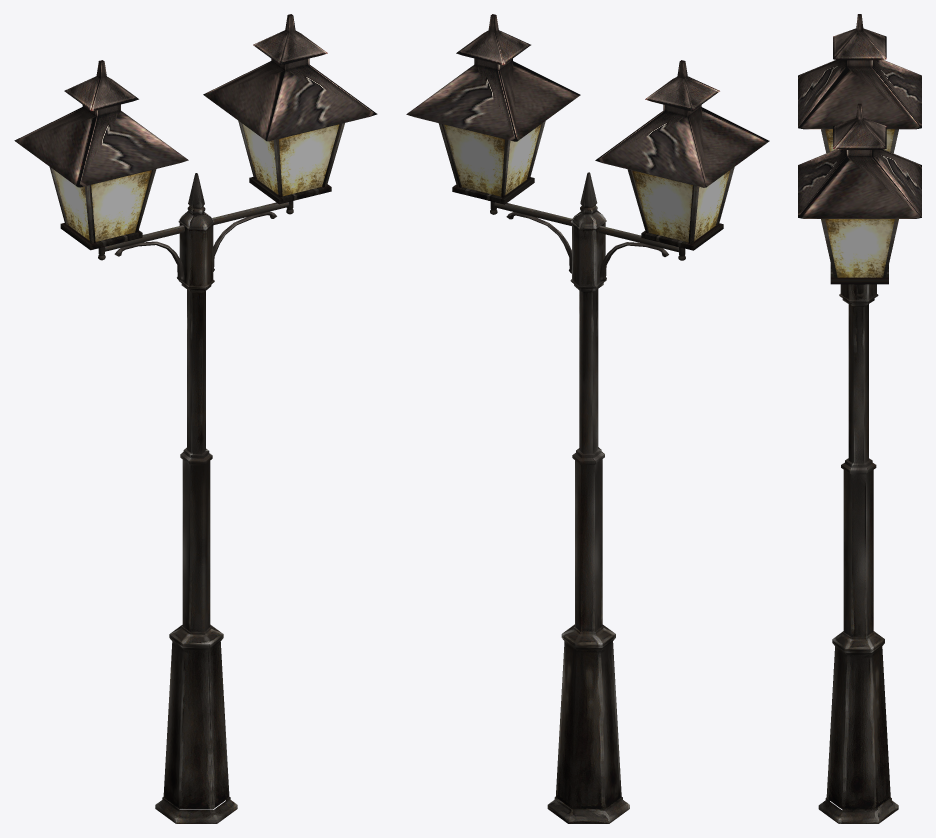
File: lamp.fbx
3 views of the same model, side by side, from view 1: azimuth 30°, elevation 25°; view 2: azimuth 150°, elevation 25°; view 3: azimuth 270°, elevation 25° (orthographic). The views are drawn at different scales.
Parts seen in each view (by area): view 1: Mesh Object; view 2: Mesh Object; view 3: Mesh Object.
Part boxes in pixels (left/top/right/bottom): Mesh Object: left=14, top=14, right=377, bottom=823; Mesh Object: left=406, top=14, right=769, bottom=823; Mesh Object: left=798, top=14, right=921, bottom=823.
Size of the model in its own units: 17.09 by 41.96 by 6.29.
